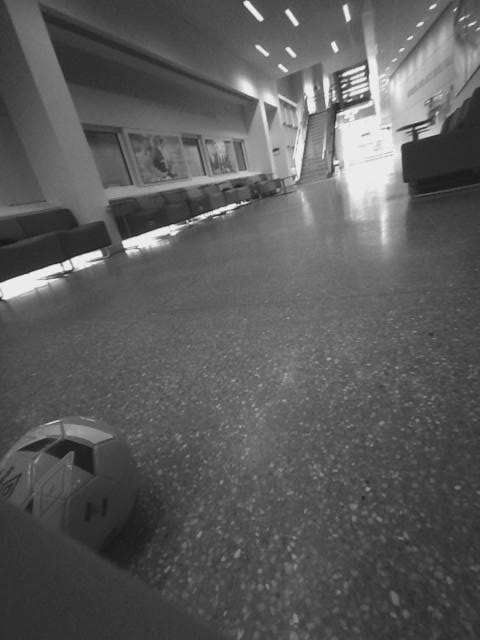ball: (7, 407, 145, 558)
